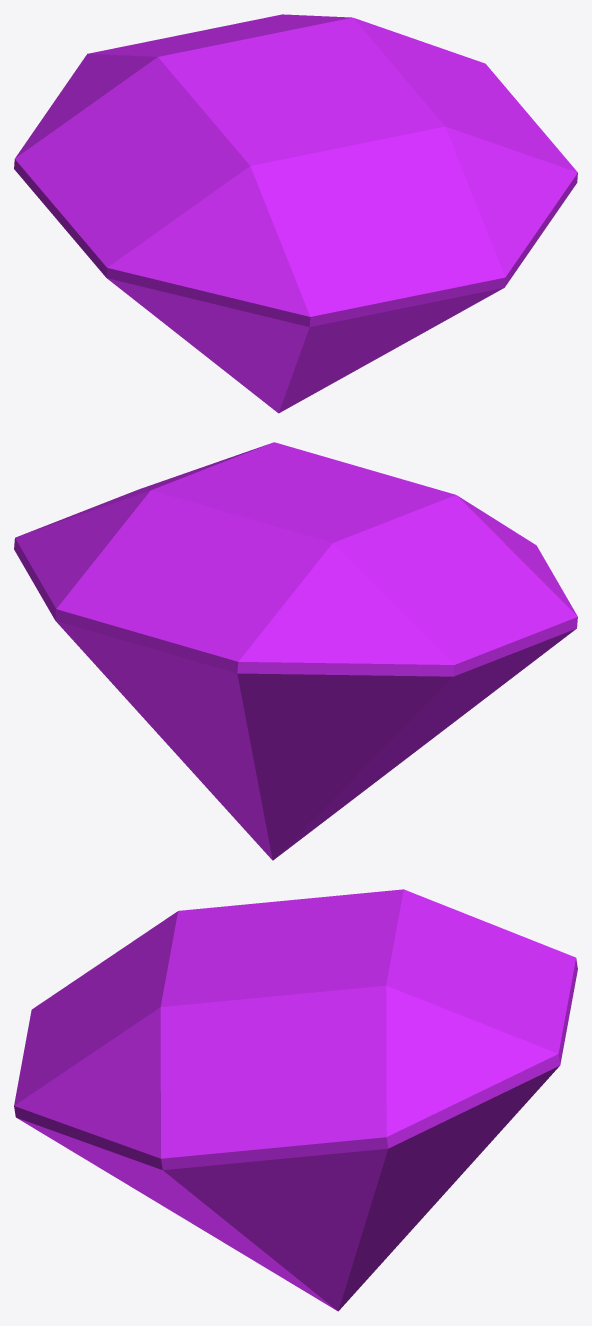
The model's file is Gem.fbx.
3 views of the same model, one above another, from view 1: azimuth 30°, elevation 25°; view 2: azimuth 150°, elevation 25°; view 3: azimuth 270°, elevation 25° (orthographic). The views are drawn at different scales.
Parts seen in each view (by area): view 1: Container; view 2: Container; view 3: Container.
Part boxes in pixels (bbox=[...]): Container: bbox=[14, 14, 577, 413]; Container: bbox=[14, 442, 577, 860]; Container: bbox=[14, 889, 577, 1311].
Bounding box in the file's own units: 0.1901 × 0.139 × 0.1889.
